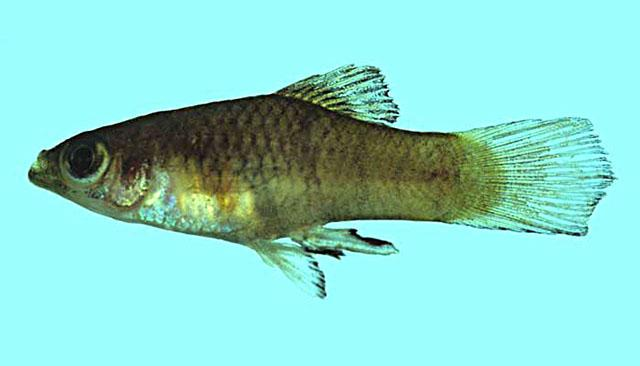Mulut: (12, 128, 76, 222)
Sirip Anal: (300, 209, 406, 270)
Sirip Ekor: (453, 100, 623, 258)
Sirip Perut: (248, 229, 332, 311)
Sirip Punggung: (267, 60, 407, 136)
